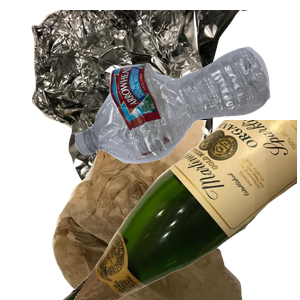glass: (60, 120, 300, 300)
metal: (29, 10, 269, 190)
plastic: (72, 44, 300, 200)
trash: (50, 120, 285, 300)
